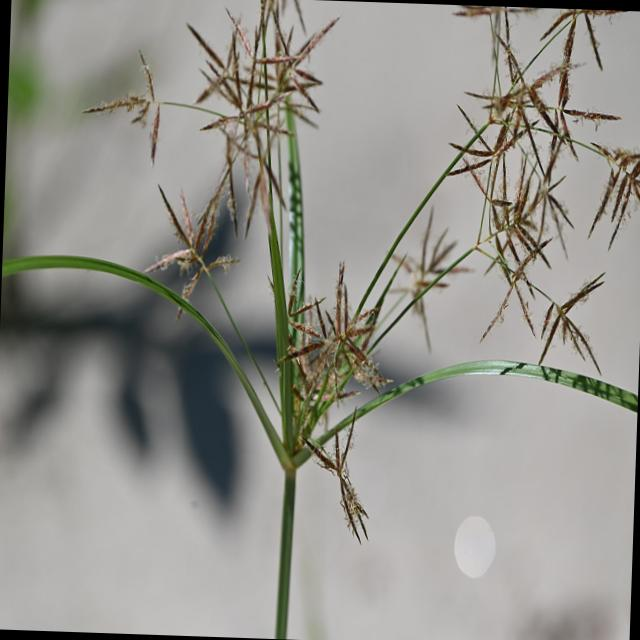Lolium: (184, 0, 336, 229), (129, 162, 244, 332), (81, 49, 180, 166), (528, 255, 608, 386), (300, 414, 380, 545), (588, 120, 640, 257)
cyperus: (78, 0, 335, 314), (445, 4, 640, 384), (279, 264, 392, 544), (389, 202, 462, 337)
